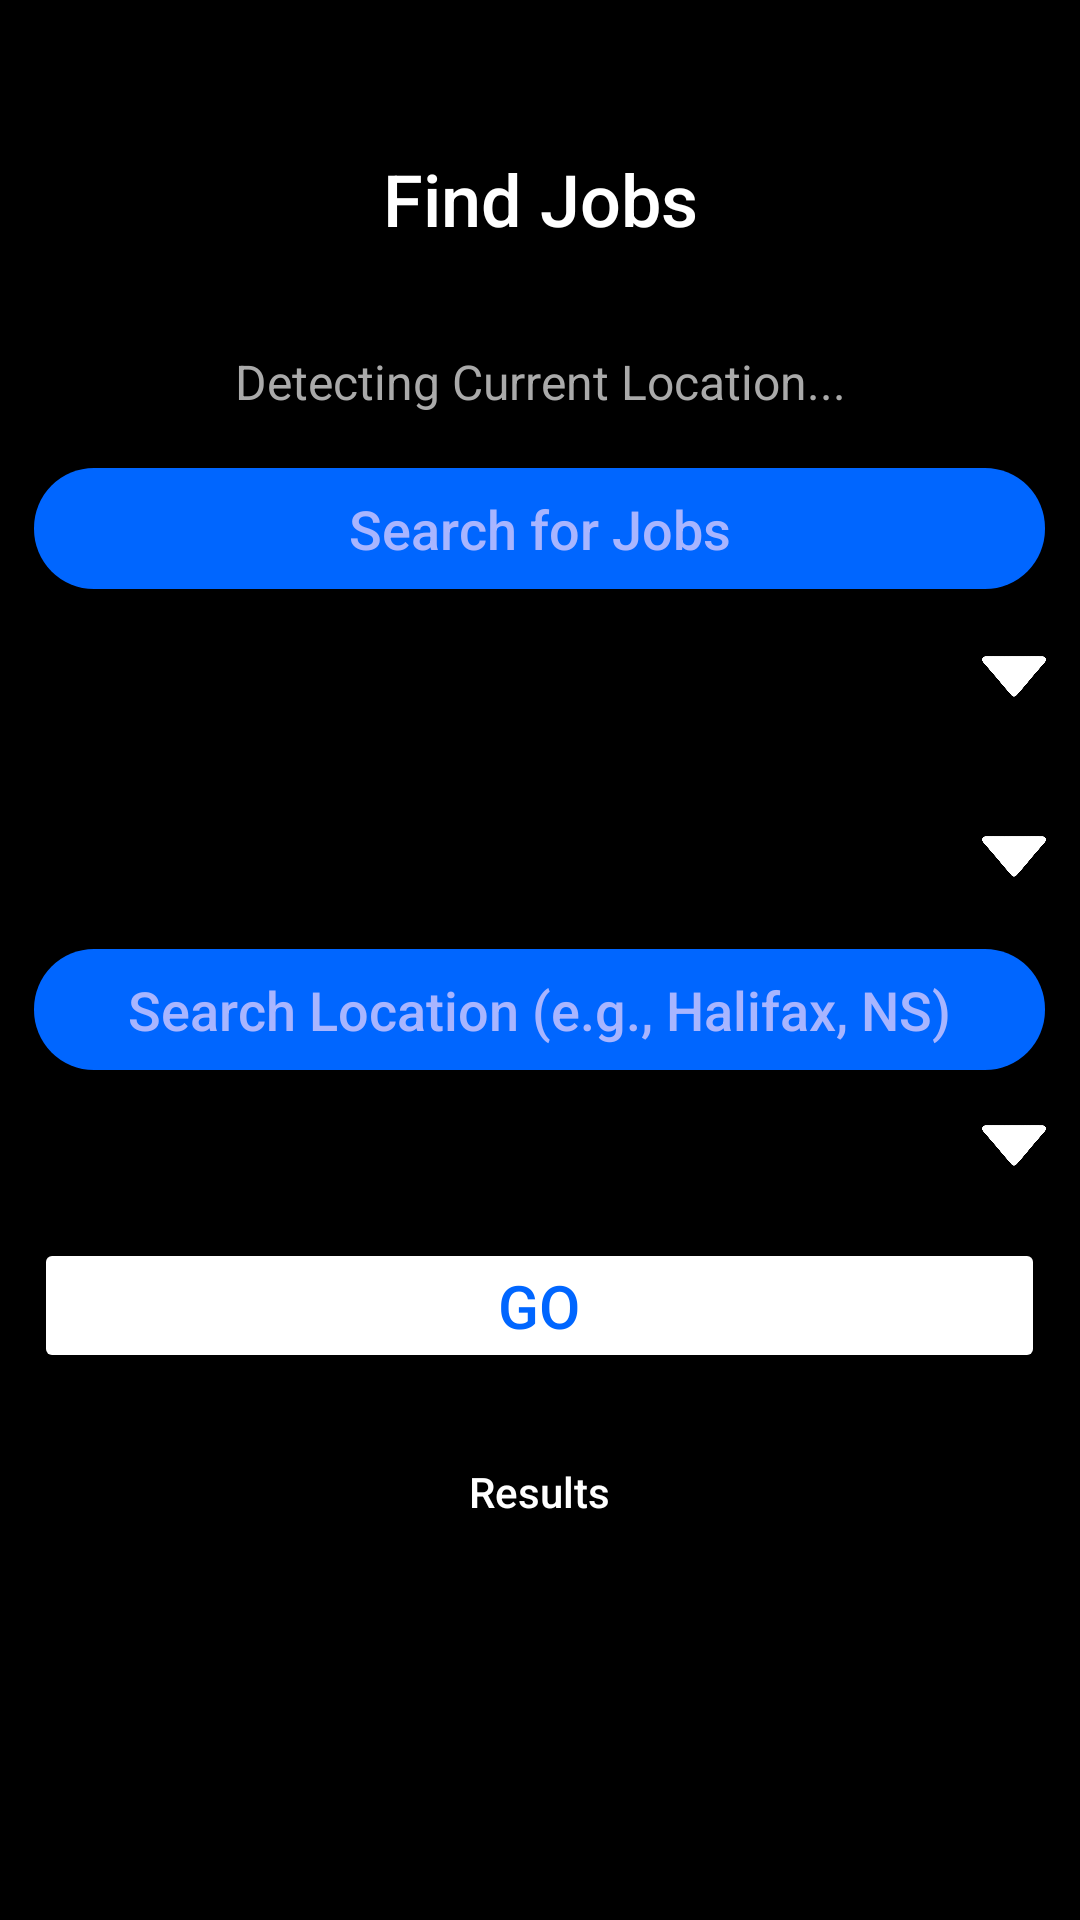

Screen size 1080×1920. Icon name, then its box in pixels as (x1, y1, x2, y2):
drop arrow: (982, 656, 1046, 697), (982, 836, 1046, 877), (982, 1125, 1046, 1166)
